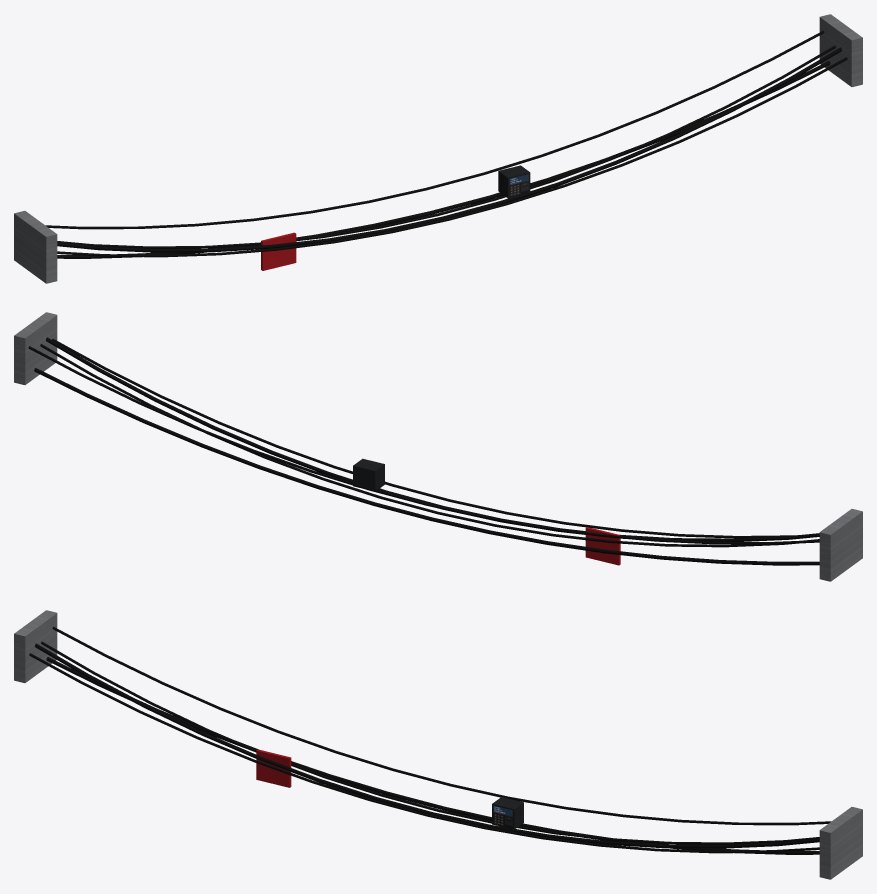
The model's file is SM_INFD_CablesOverhead.fbx.
3 views of the same model, one above another, from view 1: azimuth 30°, elevation 25°; view 2: azimuth 150°, elevation 25°; view 3: azimuth 330°, elevation 25° (orthographic).
Parts seen in each view (by area): view 1: SM_INFD_CablesOverhead_LOD0; view 2: SM_INFD_CablesOverhead_LOD0; view 3: SM_INFD_CablesOverhead_LOD0.
Boxes of the visible parts, <box> form: SM_INFD_CablesOverhead_LOD0: <box>14,14,862,283</box>; SM_INFD_CablesOverhead_LOD0: <box>14,312,862,581</box>; SM_INFD_CablesOverhead_LOD0: <box>14,610,862,879</box>.
Size of what is drawn, in the model's own units: 14.6 by 1.7 by 1.
